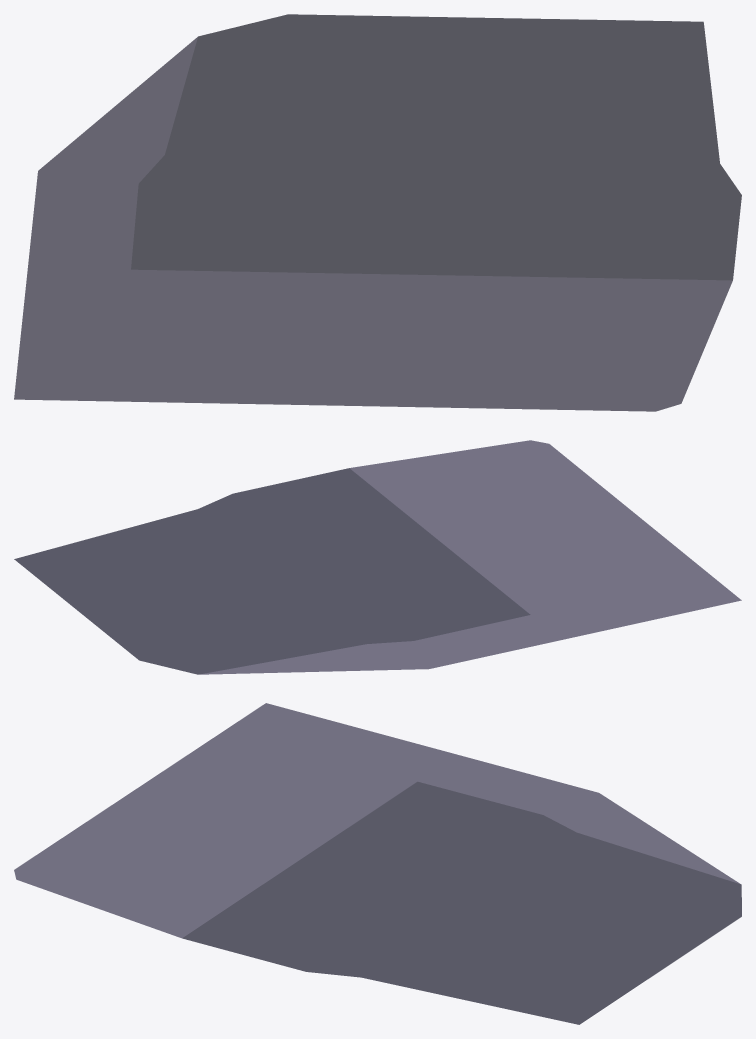
The picture shows the model from 3 angles, top to bottom: view 1: azimuth 30°, elevation 25°; view 2: azimuth 150°, elevation 25°; view 3: azimuth 270°, elevation 25°; orthographic projection. The views are drawn at different scales.
Parts seen in each view (by area): view 1: Joint_0_Object_0; view 2: Joint_0_Object_0; view 3: Joint_0_Object_0.
Part boxes in pixels (left/top/right/bottom): Joint_0_Object_0: left=14, top=14, right=741, bottom=411; Joint_0_Object_0: left=14, top=440, right=741, bottom=674; Joint_0_Object_0: left=14, top=703, right=741, bottom=1024.
Size of the model in its own units: 1311 by 0 by 1253.
Materials: 1 (1 with a texture image).
